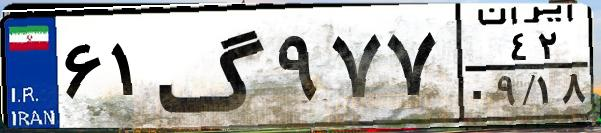0: (470, 70, 495, 125)
1: (110, 28, 156, 98), (535, 70, 560, 125)
2: (537, 27, 568, 80)
4: (508, 27, 537, 80)
6: (57, 26, 110, 100)
7: (385, 28, 445, 110), (330, 28, 385, 110)
8: (560, 70, 590, 125)
9: (270, 28, 330, 110), (495, 70, 520, 125)
گ: (156, 12, 270, 120)
